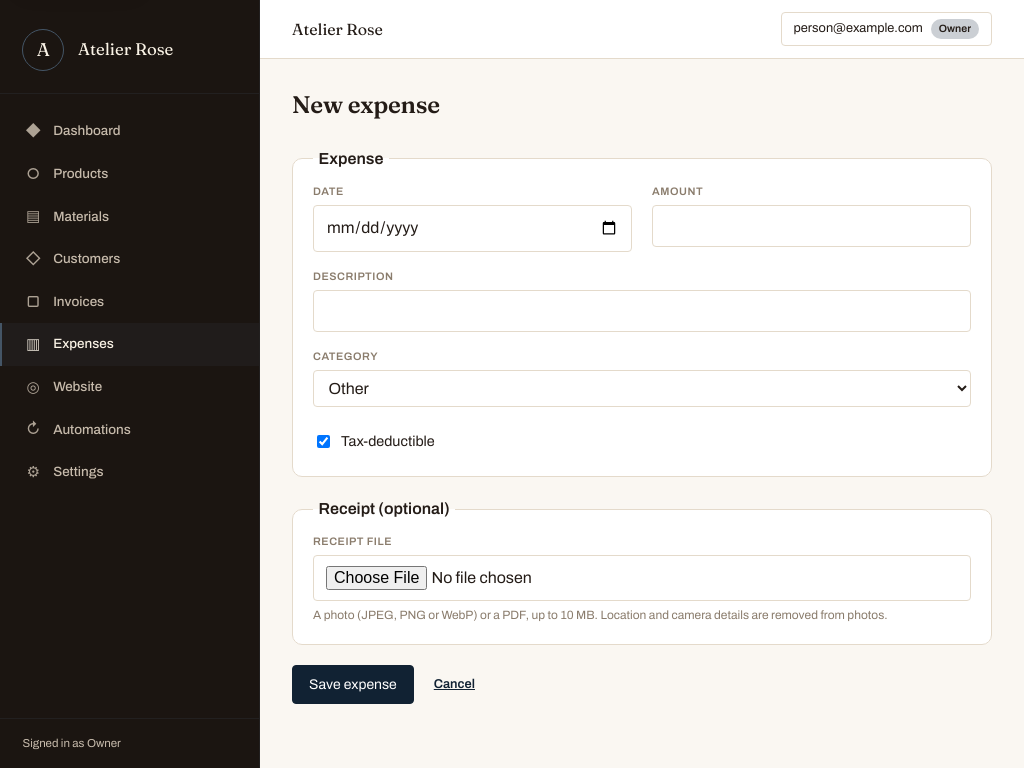
Test: new expense › validates before sending anything
The width and height of the screenshot is (1024, 768).
Click the button "Save expense" at (353, 685), box top-left (292, 665), bottom-right (414, 704)
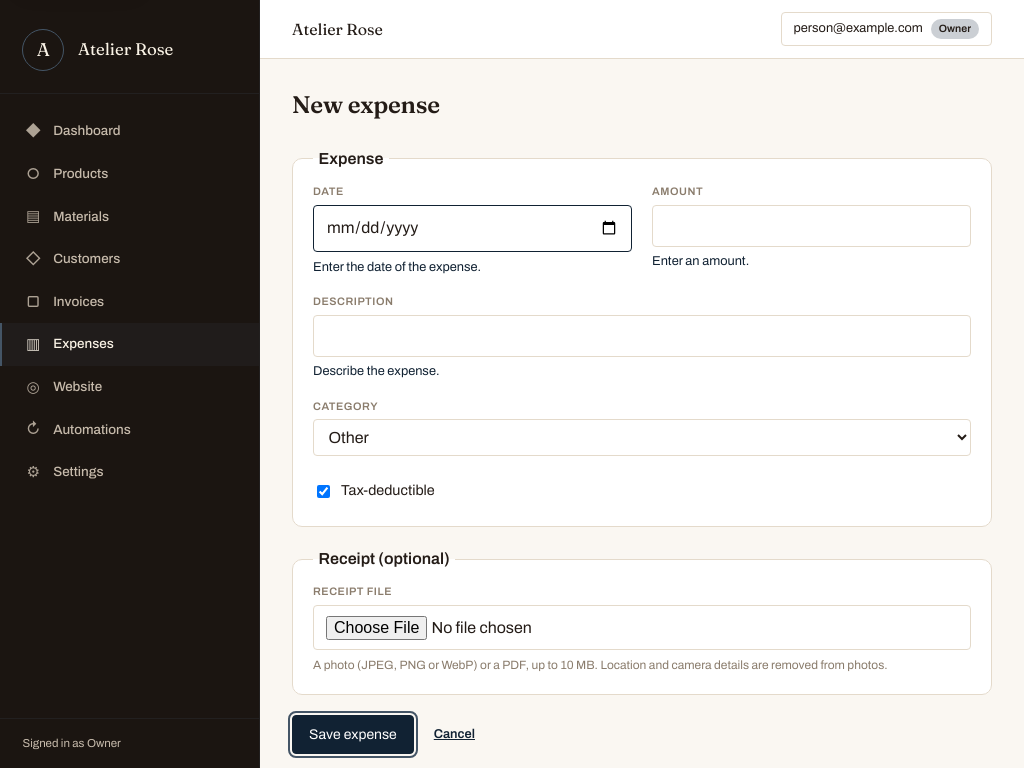
Now the text "Enter the date of the expense." is shown, box top-left (313, 260), bottom-right (481, 274)
Now the text "Describe the expense." is shown, box top-left (313, 364), bottom-right (439, 378)
Now the text "Enter an amount." is shown, box top-left (652, 254), bottom-right (749, 268)
Type "12.345" into the field labelled "Amount" at (812, 226), box top-left (652, 205), bottom-right (971, 247)
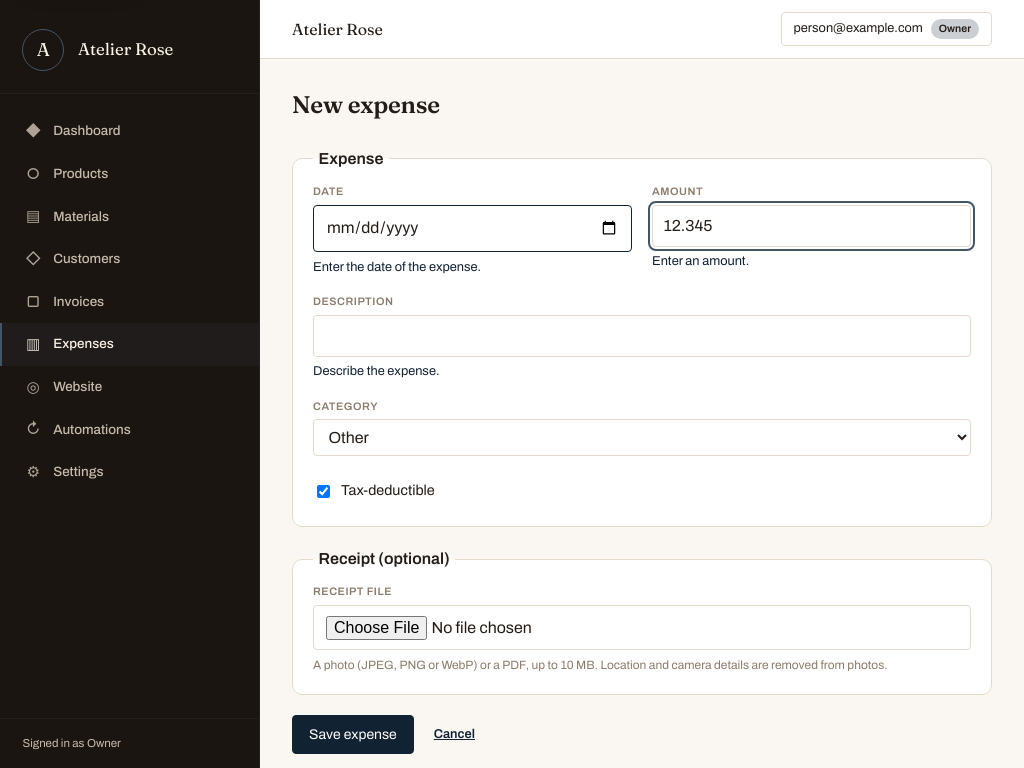
Click the button "Save expense" at (353, 734), box top-left (292, 715), bottom-right (414, 754)
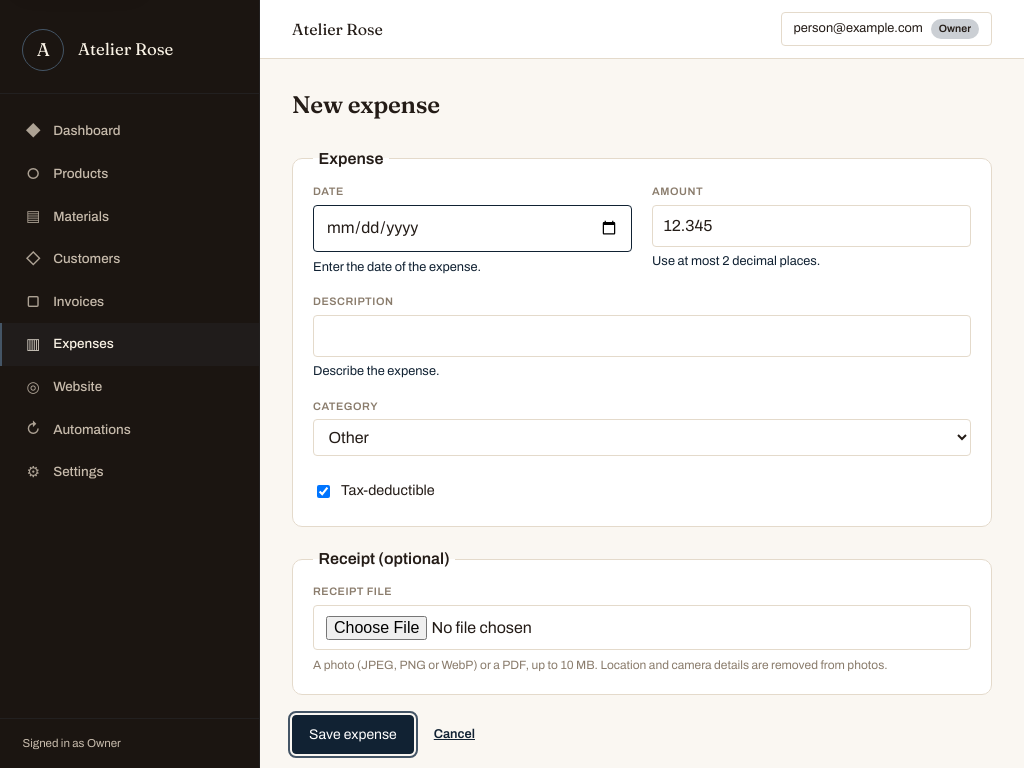
Now the text "Use at most 2 decimal places." is shown, box top-left (652, 254), bottom-right (820, 268)
